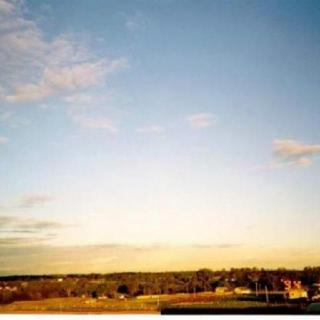Stratocumulus: (0, 0, 308, 262)
